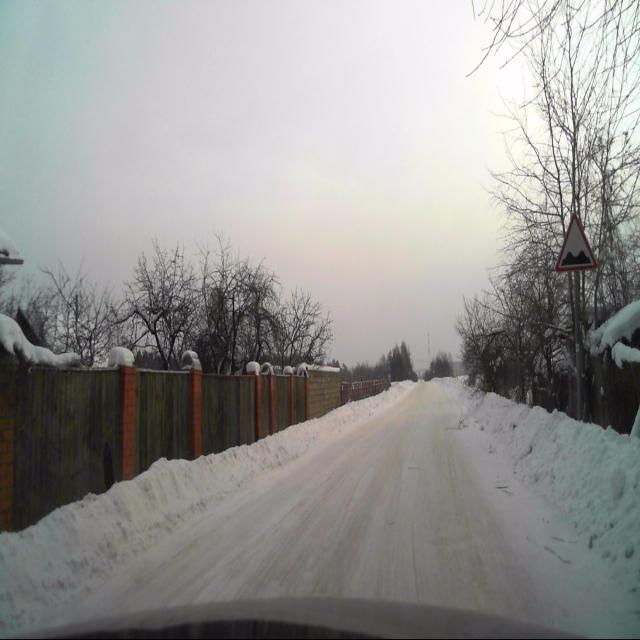object: (574, 272, 582, 420)
road sign: (557, 213, 598, 268)
